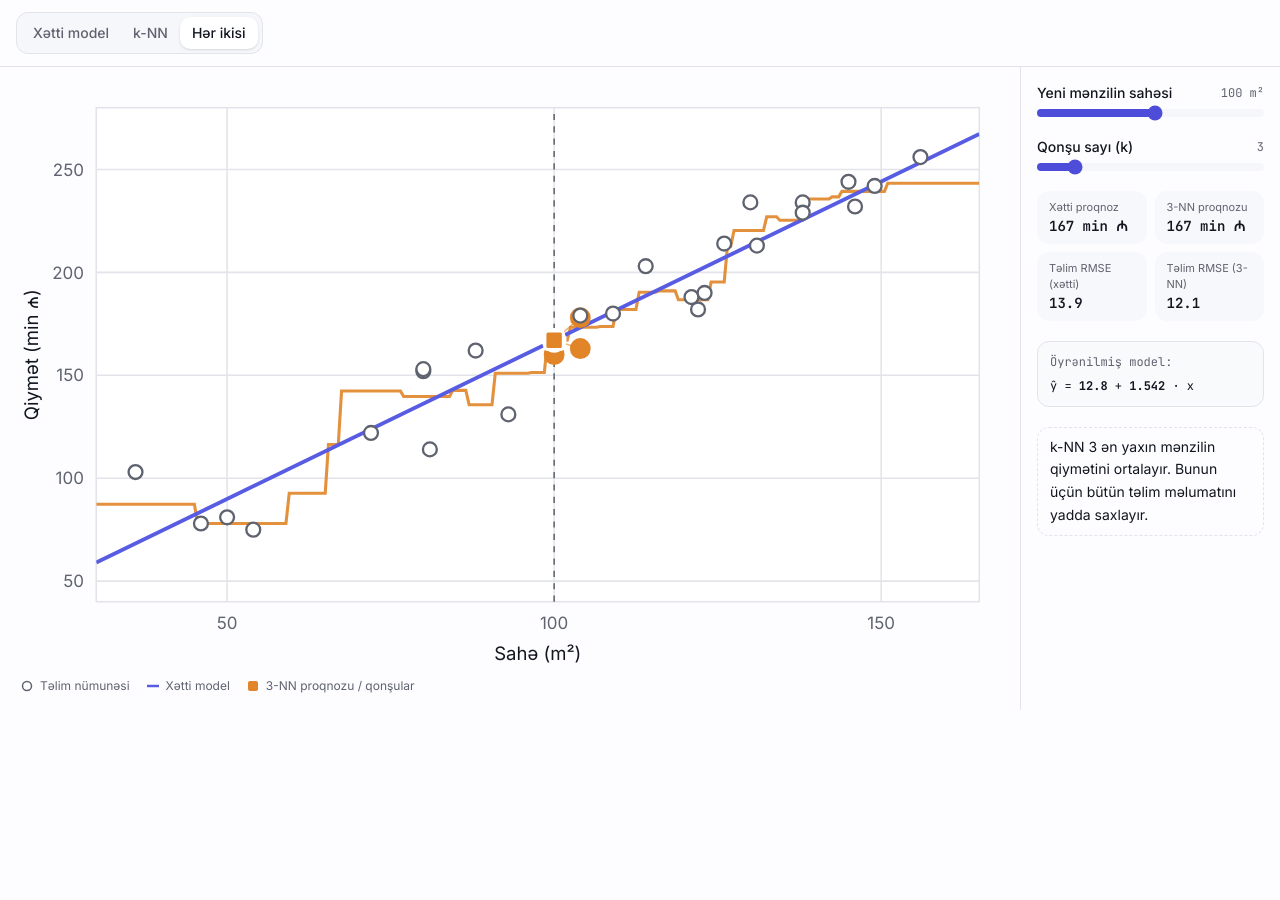
interactive demos (smoke) › model-vs-instance: k slider changes the k-NN label
The width and height of the screenshot is (1280, 900).
Set the slider labelled "Qonşu sayı (k)" to "7": x=1135, y=167 [1037, 163, 1264, 171]
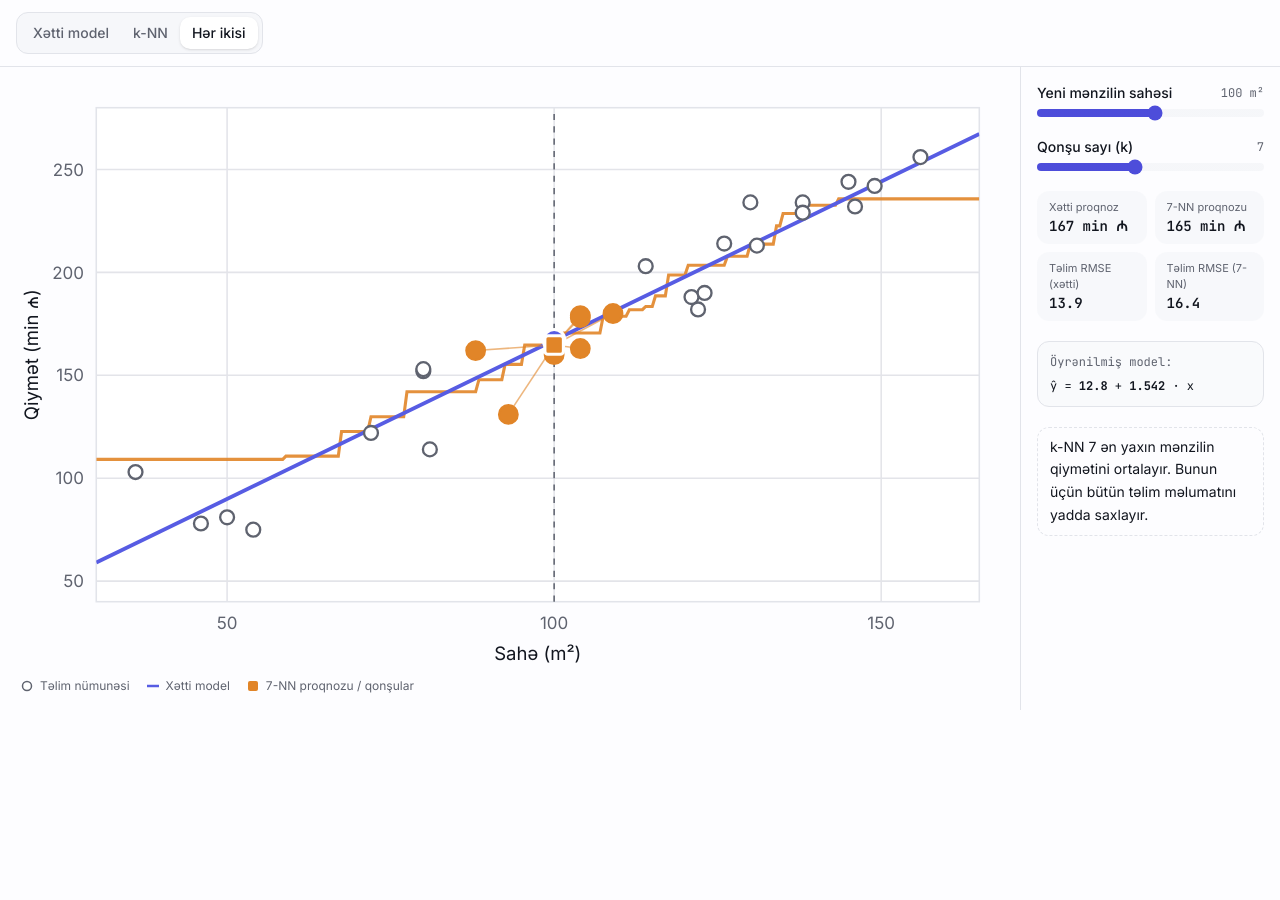
Result: the text "7-NN proqnozu" is shown at [1166, 199, 1252, 216]
